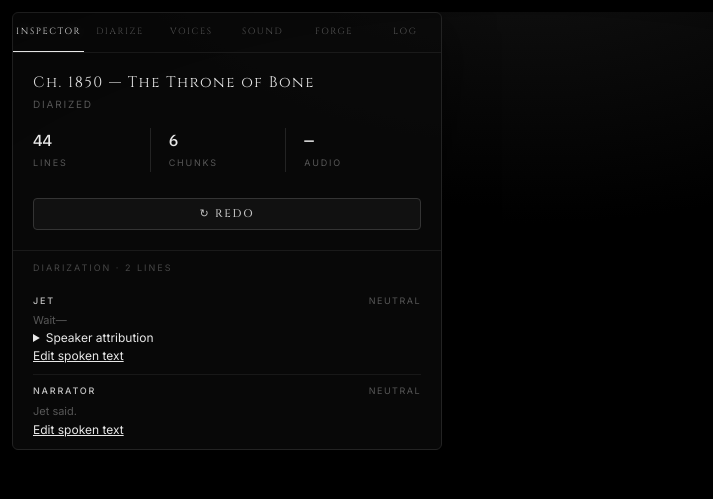
InspectorPanel › shows the source cue that supports an explicit speaker assignment
The image size is (713, 499).
Click the heading "Speaker attribution" at point(100, 337), box [46,330,154,345]
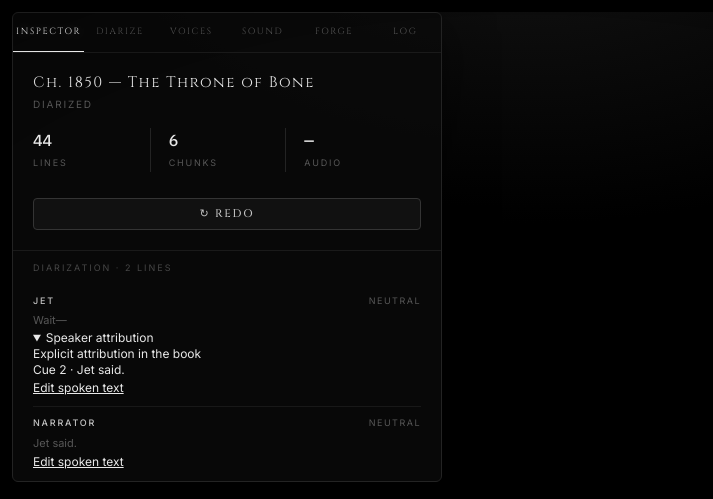
Expected: the text "Explicit attribution in the book" is shown, [33,346,201,361]
Expected: the text "Cue 2 · Jet said." is shown, [33,362,125,377]
